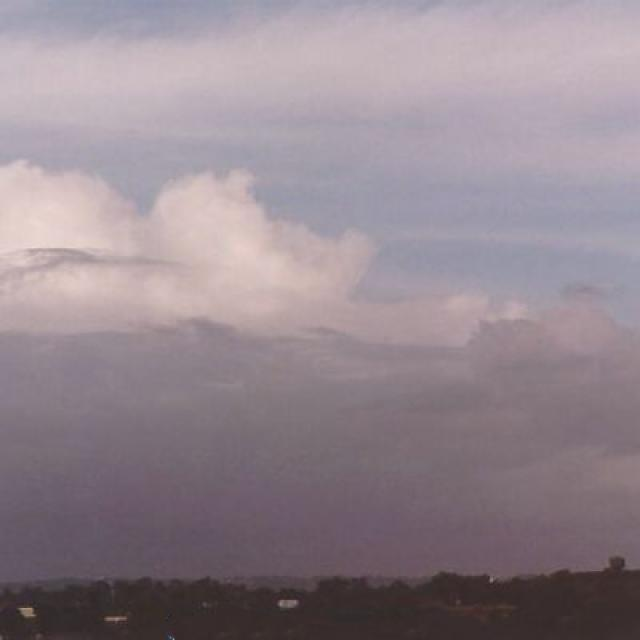Cs: (1, 90, 640, 521)
